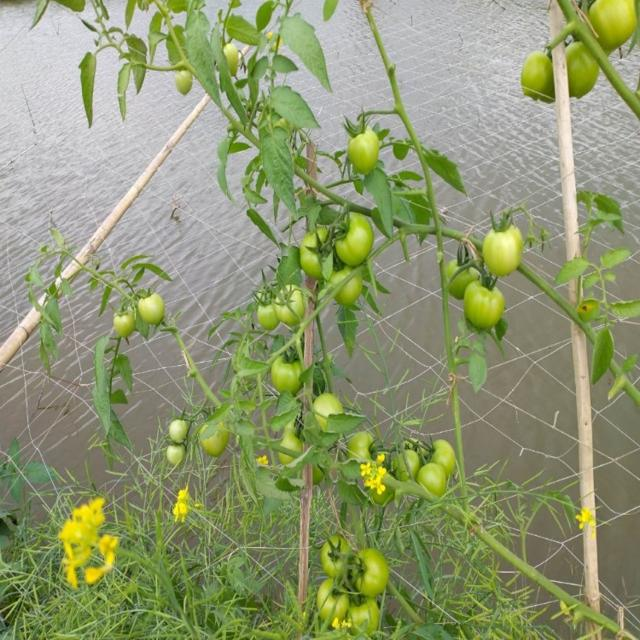tomato: (581, 2, 640, 61), (443, 252, 492, 306), (563, 43, 603, 108), (480, 218, 525, 274), (343, 121, 388, 176), (334, 207, 376, 262), (294, 230, 343, 277), (353, 545, 396, 598), (468, 281, 510, 334), (315, 532, 361, 580), (516, 51, 555, 104), (269, 343, 304, 393), (314, 579, 352, 624), (330, 264, 369, 304), (347, 592, 385, 632), (277, 280, 308, 328), (135, 287, 169, 329), (280, 430, 313, 473), (423, 432, 461, 469), (203, 416, 230, 464), (394, 445, 426, 485), (311, 393, 340, 435), (254, 289, 281, 331), (349, 430, 380, 466), (418, 461, 446, 499), (398, 432, 428, 461), (166, 412, 188, 451), (223, 41, 249, 73), (163, 447, 192, 468), (172, 71, 191, 100), (113, 309, 135, 334)
